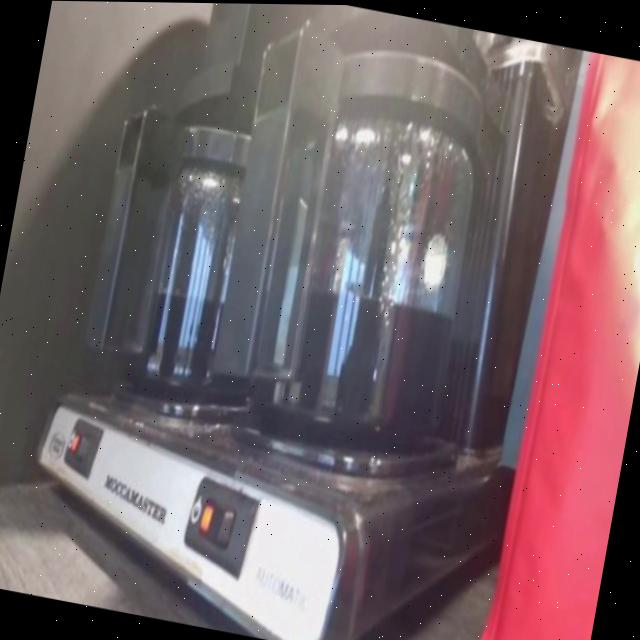coffee: (243, 27, 510, 470), (101, 69, 316, 416)
